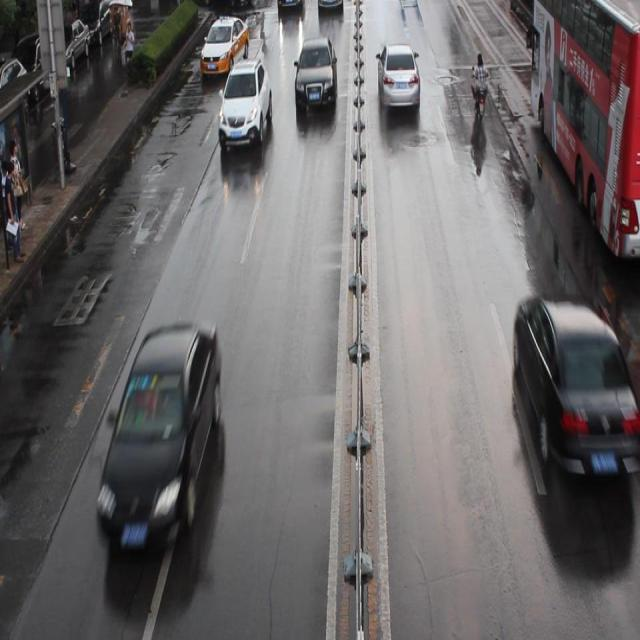car: (96, 318, 222, 550), (511, 294, 640, 488), (218, 58, 271, 152), (293, 36, 337, 111), (200, 11, 250, 76), (376, 41, 420, 108), (276, 1, 304, 14), (318, 1, 342, 14)
van: (528, 1, 640, 260)
